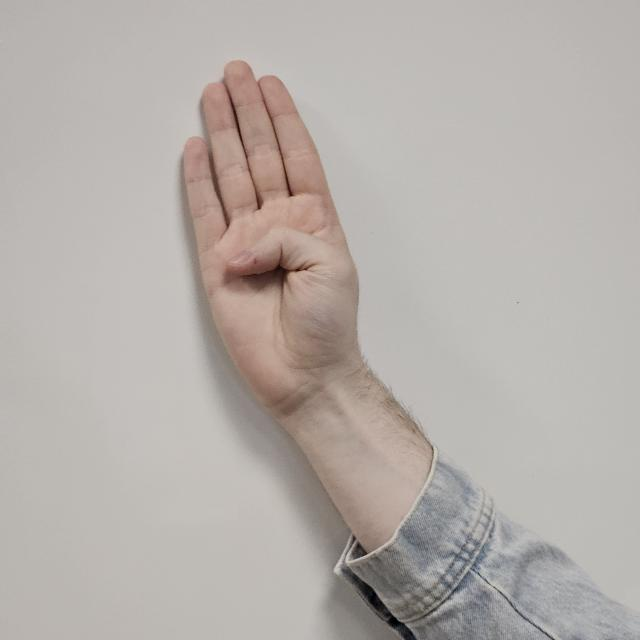Baixo: (171, 52, 393, 432)
